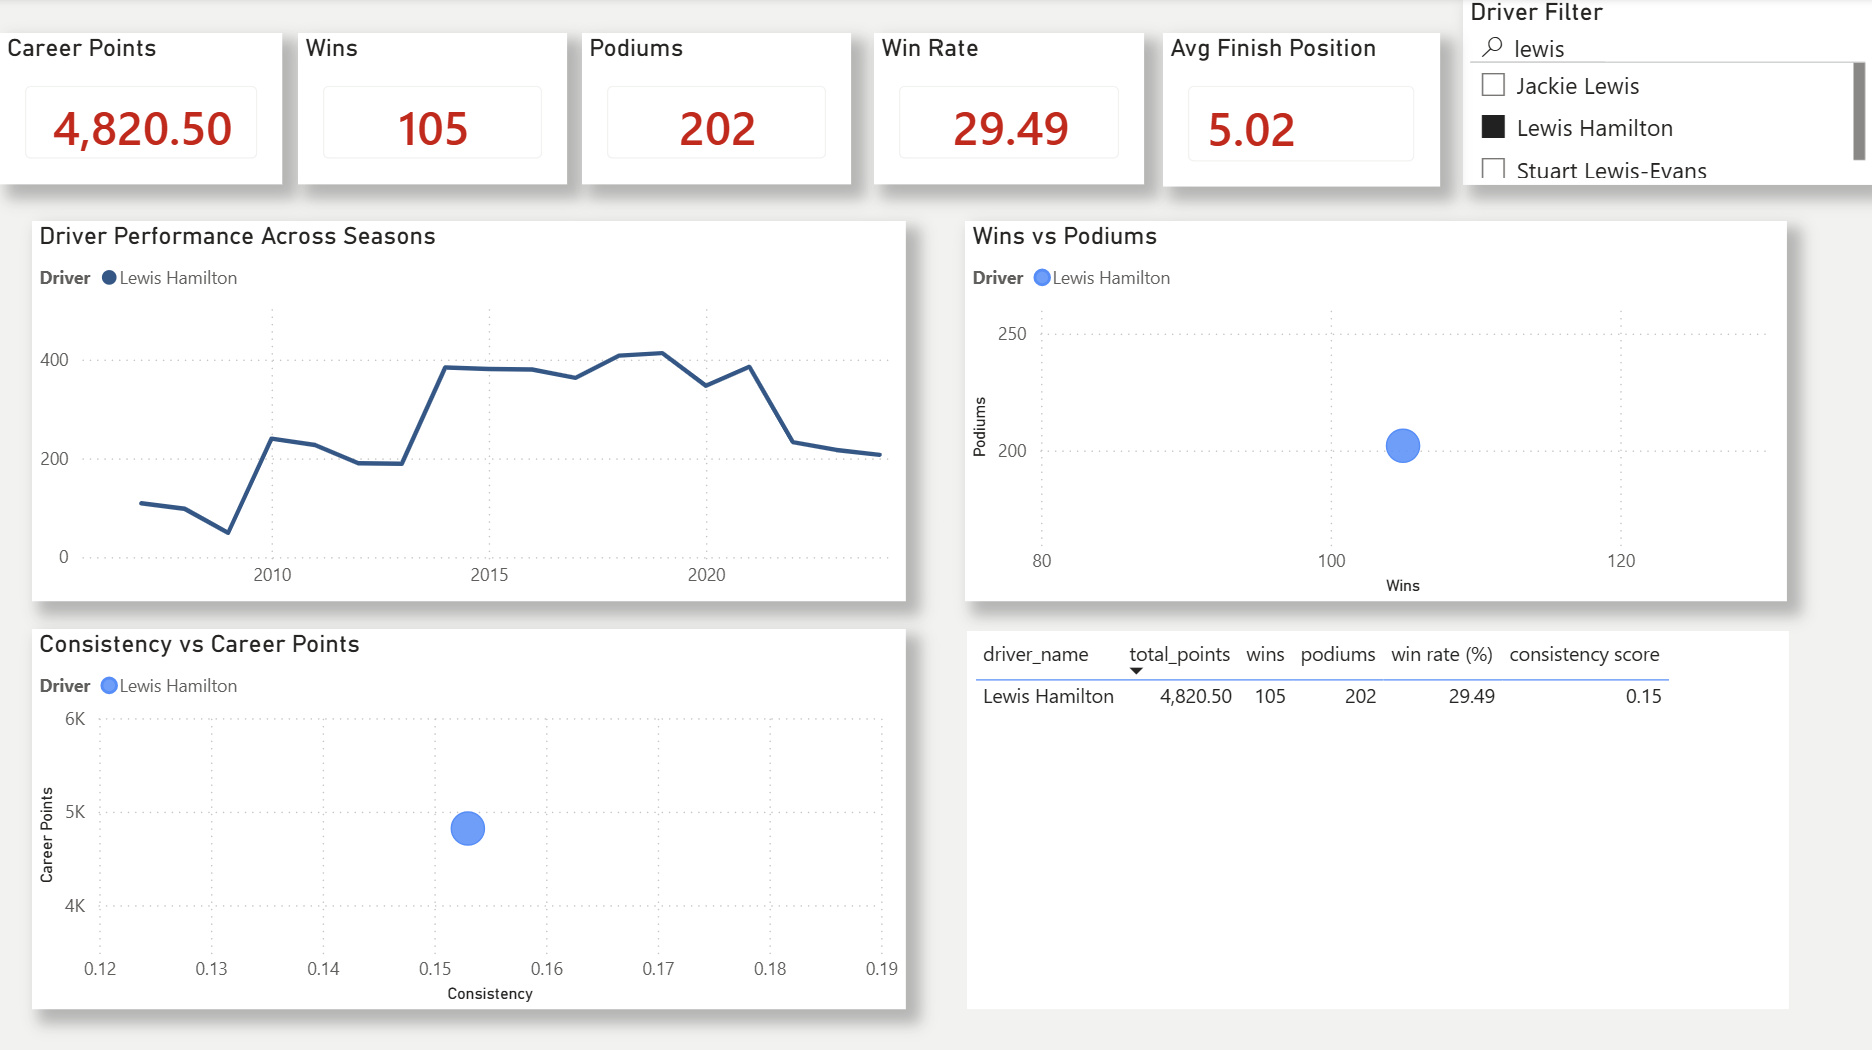

Layout of this report page (visuals, bound fields, positions):
{"tool":"powerbi","page":{"name":"Driver Performance Analysis","canvas":[1280,720],"ordinal":1},"visuals":[{"type":"slicer","title":"Driver Filter","fields":{"Values":["driver_kpis.driver_name"]},"box":[999.9,0,280.1,128.4],"z":0},{"type":"cardVisual","title":"Career Points","fields":{"Data":["Sum(driver_kpis.total_points)"]},"box":[0,24.6,193.2,103.7],"z":1000},{"type":"cardVisual","title":"Wins","fields":{"Data":["Sum(driver_kpis.wins)"]},"box":[203.6,24.6,184.2,103.7],"z":2000},{"type":"cardVisual","title":"Podiums","fields":{"Data":["Sum(driver_kpis.podiums)"]},"box":[398.1,24.6,184.2,103.7],"z":3000},{"type":"cardVisual","title":"Win Rate","fields":{"Data":["Sum(driver_kpis.win_rate)"]},"box":[597.9,24.6,184.2,103.7],"z":4000},{"type":"lineChart","title":"Driver Performance Across Seasons","fields":{"Category":["season_driver_kpis.year"],"Series":["season_driver_kpis.driver_name"],"Y":["Sum(season_driver_kpis.season_points)"]},"box":[21.9,153.2,597.6,259.8],"z":5000},{"type":"scatterChart","title":"Wins vs Podiums","fields":{"X":["driver_kpis.wins"],"Y":["driver_kpis.podiums"],"Size":["CountNonNull(driver_kpis.total_points)"],"Series":["driver_kpis.driver_name"]},"box":[659.1,153.2,562.1,259.8],"z":6000},{"type":"scatterChart","title":"Consistency vs Career Points","fields":{"X":["driver_kpis.consistency_score"],"Y":["driver_kpis.total_points"],"Size":["CountNonNull(driver_kpis.wins)"],"Series":["driver_kpis.driver_name"]},"box":[21.9,432.1,597.6,259.8],"z":7000},{"type":"tableEx","fields":{"Values":["driver_kpis.driver_name","driver_kpis.total_points","driver_kpis.wins","driver_kpis.podiums","driver_kpis.win_rate","driver_kpis.consistency_score"]},"box":[660.5,433.5,562.1,258.5],"z":8000},{"type":"cardVisual","title":"Avg Finish Position","fields":{"Data":["driver_kpis.Average Finish Position"]},"box":[795,24.6,189.3,105],"z":9000}]}

Visuals, with their boxes in screenshot pixels (x1, y1, x2, y2), scaled from the page's 1280x720 canvas onto the 1872x1050 screenshot:
"Driver Filter" slicer: Rect(1462, 0, 1871, 187)
"Career Points" cardVisual: Rect(0, 36, 283, 187)
"Wins" cardVisual: Rect(298, 36, 567, 187)
"Podiums" cardVisual: Rect(582, 36, 852, 187)
"Win Rate" cardVisual: Rect(874, 36, 1144, 187)
"Driver Performance Across Seasons" lineChart: Rect(32, 223, 906, 602)
"Wins vs Podiums" scatterChart: Rect(964, 223, 1786, 602)
"Consistency vs Career Points" scatterChart: Rect(32, 630, 906, 1009)
tableEx - driver_kpis.driver_name x driver_kpis.total_points: Rect(966, 632, 1788, 1009)
"Avg Finish Position" cardVisual: Rect(1163, 36, 1440, 189)
